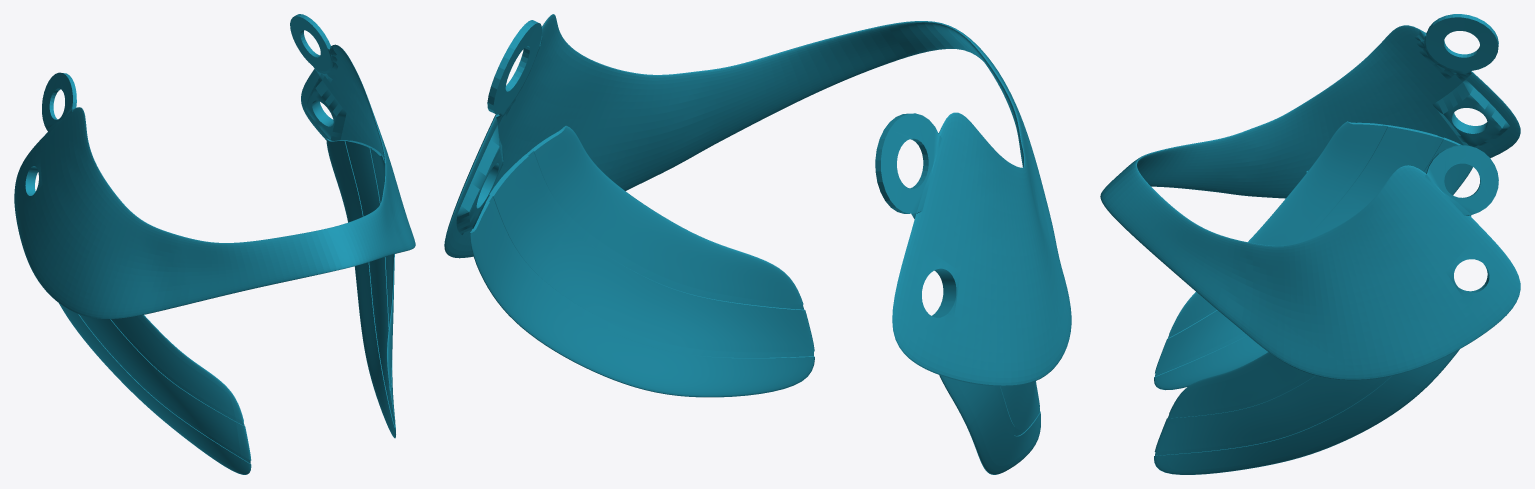
The model's file is malania-m2.obj.
The picture shows the model from 3 angles, left to right: view 1: azimuth 30°, elevation 25°; view 2: azimuth 150°, elevation 25°; view 3: azimuth 270°, elevation 25°; orthographic projection. The views are drawn at different scales.
Visible parts, largest first — view 1: Object042, Object043; view 2: Object042, Object043; view 3: Object042, Object043.
Part boxes in pixels (box(x1,y1,x2,y2)): Object042: box(14, 14, 406, 299); Object043: box(55, 218, 415, 474); Object042: box(444, 14, 1058, 427); Object043: box(509, 34, 1071, 474); Object042: box(1119, 14, 1520, 388); Object043: box(1100, 165, 1424, 474).
Size of the model in its own units: 231 by 202 by 219.
